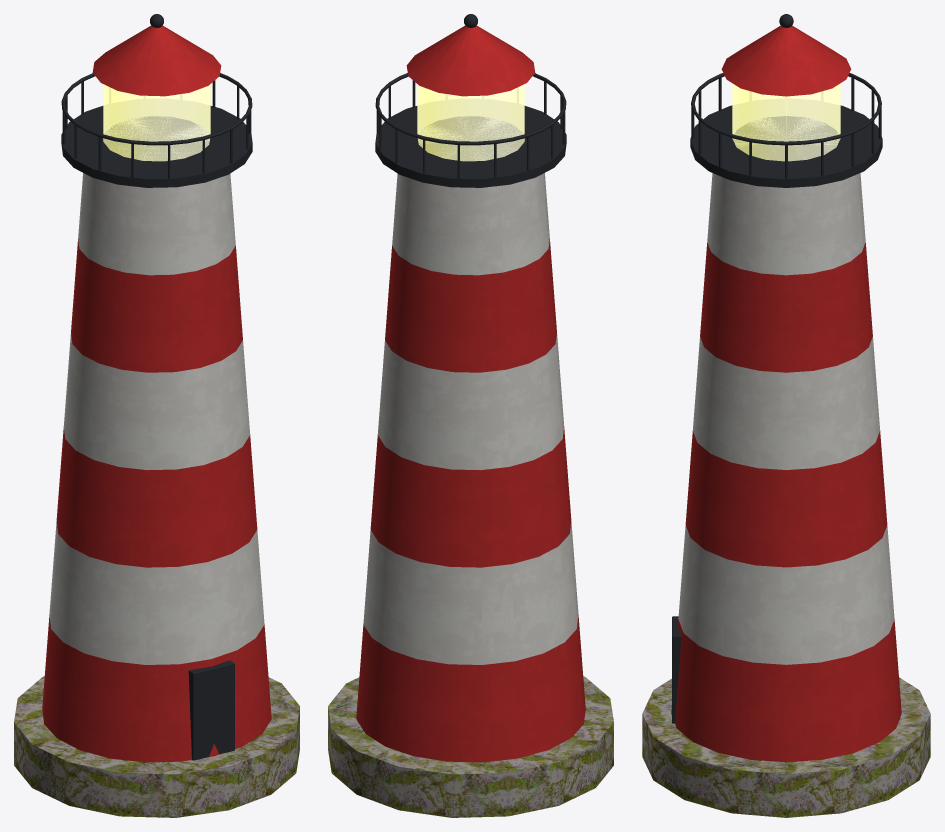
The model's file is a-realistic-lighthouse-91561-realistic.glb.
3 views of the same model, side by side, from view 1: azimuth 30°, elevation 25°; view 2: azimuth 150°, elevation 25°; view 3: azimuth 270°, elevation 25° (orthographic).
Visible parts, largest first — view 1: prop; view 2: prop; view 3: prop.
Boxes of the visible parts, box(x1,y1,x2,y2) form: prop: box(14, 14, 299, 817); prop: box(328, 14, 613, 817); prop: box(642, 14, 930, 817).
Bounding box in the file's own units: 6 × 17.05 × 6.
Materials: 5 (4 with a texture image).
